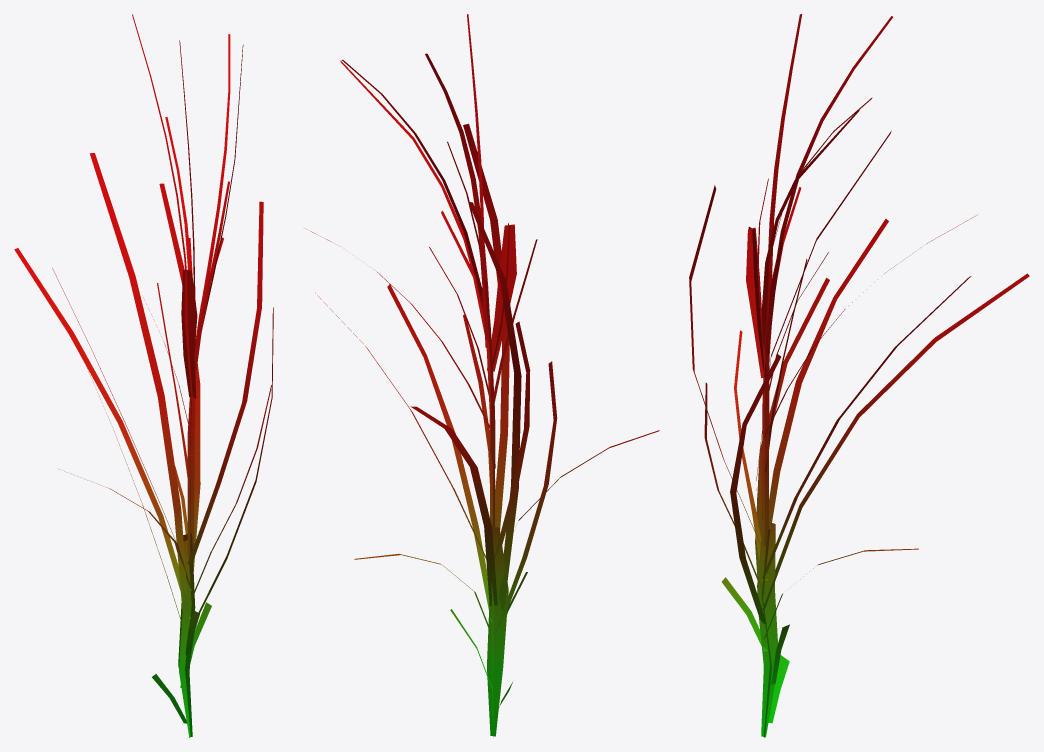
The model's file is Sea Wheatgrass_LOD2_Var8_ui2oagjia.fbx.
The picture shows the model from 3 angles, left to right: view 1: azimuth 30°, elevation 25°; view 2: azimuth 150°, elevation 25°; view 3: azimuth 270°, elevation 25°; orthographic projection. The views are drawn at different scales.
Parts seen in each view (by area): view 1: _xst1_Var8_LOD2; view 2: _xst1_Var8_LOD2; view 3: _xst1_Var8_LOD2.
Part boxes in pixels (x1,y1,x2,y2): _xst1_Var8_LOD2: [14, 14, 273, 737]; _xst1_Var8_LOD2: [305, 14, 659, 736]; _xst1_Var8_LOD2: [689, 14, 1029, 737].
Size of the model in its own units: 16.88 by 45.66 by 19.4.
